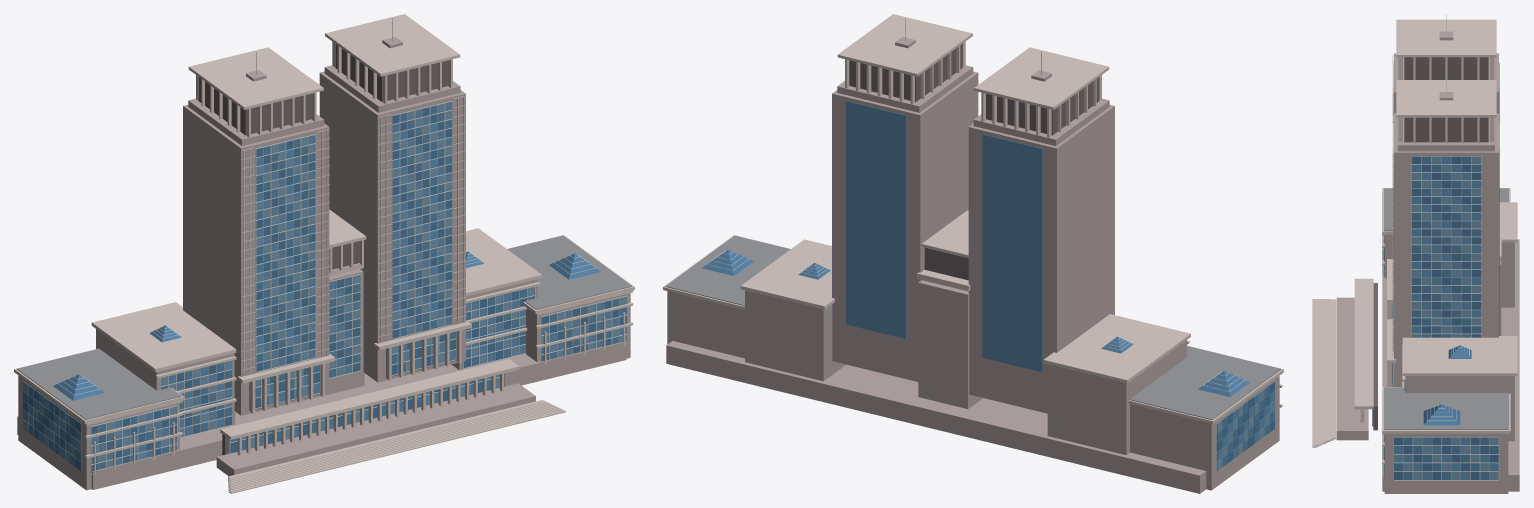
3 views of the same model, side by side, from view 1: azimuth 30°, elevation 25°; view 2: azimuth 150°, elevation 25°; view 3: azimuth 270°, elevation 25° (orthographic). The views are drawn at different scales.
Visible parts, largest first — view 1: 光华楼 · Guanghua rose grey stone.001, 光华楼 · Guanghua light stone edges.001, 光华楼 · Guanghua curtain wall mullions.001, 光华楼 · Guanghua blue glazing 0.001, 光华楼 · Guanghua blue glazing 3.001, 光华楼 · Guanghua blue glazing 2.001, 光华楼 · Guanghua blue glazing 1.001, 光华楼 · Guanghua roof.001, 光华楼 · Guanghua recessed bronze.001; view 2: 光华楼 · Guanghua rose grey stone.001, 光华楼 · Guanghua blue glazing 1.001, 光华楼 · Guanghua light stone edges.001, 光华楼 · Guanghua roof.001, 光华楼 · Guanghua recessed bronze.001, 光华楼 · Guanghua blue glazing 0.001, 光华楼 · Guanghua blue glazing 2.001, 光华楼 · Guanghua blue glazing 3.001, 光华楼 · Guanghua curtain wall mullions.001; view 3: 光华楼 · Guanghua light stone edges.001, 光华楼 · Guanghua rose grey stone.001, 光华楼 · Guanghua blue glazing 0.001, 光华楼 · Guanghua curtain wall mullions.001, 光华楼 · Guanghua blue glazing 1.001, 光华楼 · Guanghua roof.001, 光华楼 · Guanghua recessed bronze.001, 光华楼 · Guanghua blue glazing 2.001, 光华楼 · Guanghua blue glazing 3.001.
Part boxes in pixels (bbox=[...]): 光华楼 · Guanghua rose grey stone.001: bbox=[17, 37, 630, 490]; 光华楼 · Guanghua light stone edges.001: bbox=[14, 14, 634, 493]; 光华楼 · Guanghua curtain wall mullions.001: bbox=[23, 18, 627, 474]; 光华楼 · Guanghua blue glazing 0.001: bbox=[23, 107, 626, 473]; 光华楼 · Guanghua blue glazing 3.001: bbox=[23, 105, 626, 469]; 光华楼 · Guanghua blue glazing 2.001: bbox=[23, 103, 626, 467]; 光华楼 · Guanghua blue glazing 1.001: bbox=[23, 101, 626, 465]; 光华楼 · Guanghua roof.001: bbox=[17, 235, 632, 419]; 光华楼 · Guanghua recessed bronze.001: bbox=[198, 44, 504, 455]; 光华楼 · Guanghua rose grey stone.001: bbox=[666, 37, 1279, 493]; 光华楼 · Guanghua blue glazing 1.001: bbox=[846, 101, 1274, 461]; 光华楼 · Guanghua light stone edges.001: bbox=[663, 14, 1283, 423]; 光华楼 · Guanghua roof.001: bbox=[665, 235, 1281, 419]; 光华楼 · Guanghua recessed bronze.001: bbox=[849, 44, 1099, 280]; 光华楼 · Guanghua blue glazing 0.001: bbox=[702, 250, 1274, 462]; 光华楼 · Guanghua blue glazing 2.001: bbox=[1216, 389, 1274, 470]; 光华楼 · Guanghua blue glazing 3.001: bbox=[1216, 385, 1274, 466]; 光华楼 · Guanghua curtain wall mullions.001: bbox=[707, 18, 1274, 470]; 光华楼 · Guanghua light stone edges.001: bbox=[1312, 19, 1517, 474]; 光华楼 · Guanghua rose grey stone.001: bbox=[1336, 31, 1519, 493]; 光华楼 · Guanghua blue glazing 0.001: bbox=[1384, 63, 1498, 479]; 光华楼 · Guanghua curtain wall mullions.001: bbox=[1372, 14, 1499, 480]; 光华楼 · Guanghua blue glazing 1.001: bbox=[1372, 62, 1499, 479]; 光华楼 · Guanghua roof.001: bbox=[1384, 188, 1508, 429]; 光华楼 · Guanghua recessed bronze.001: bbox=[1373, 57, 1488, 430]; 光华楼 · Guanghua blue glazing 2.001: bbox=[1372, 70, 1498, 479]; 光华楼 · Guanghua blue glazing 3.001: bbox=[1384, 66, 1498, 479].
Bounding box in the file's own units: 126 × 79.55 × 45.33.
